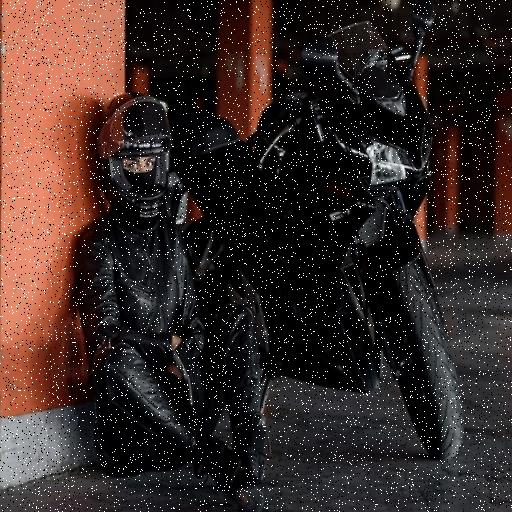Helmet: (100, 109, 180, 235)
Motor: (151, 41, 478, 468)
